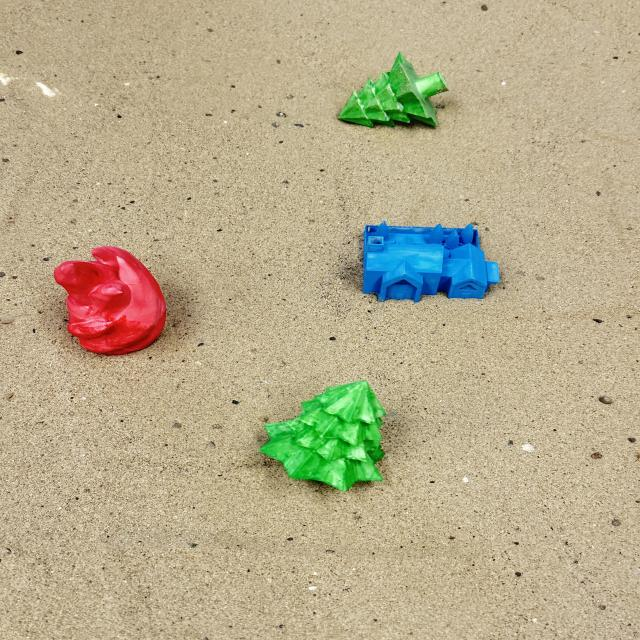fire: (52, 244, 167, 356)
house: (360, 220, 501, 302)
tree: (258, 379, 388, 492), (336, 51, 449, 129)
